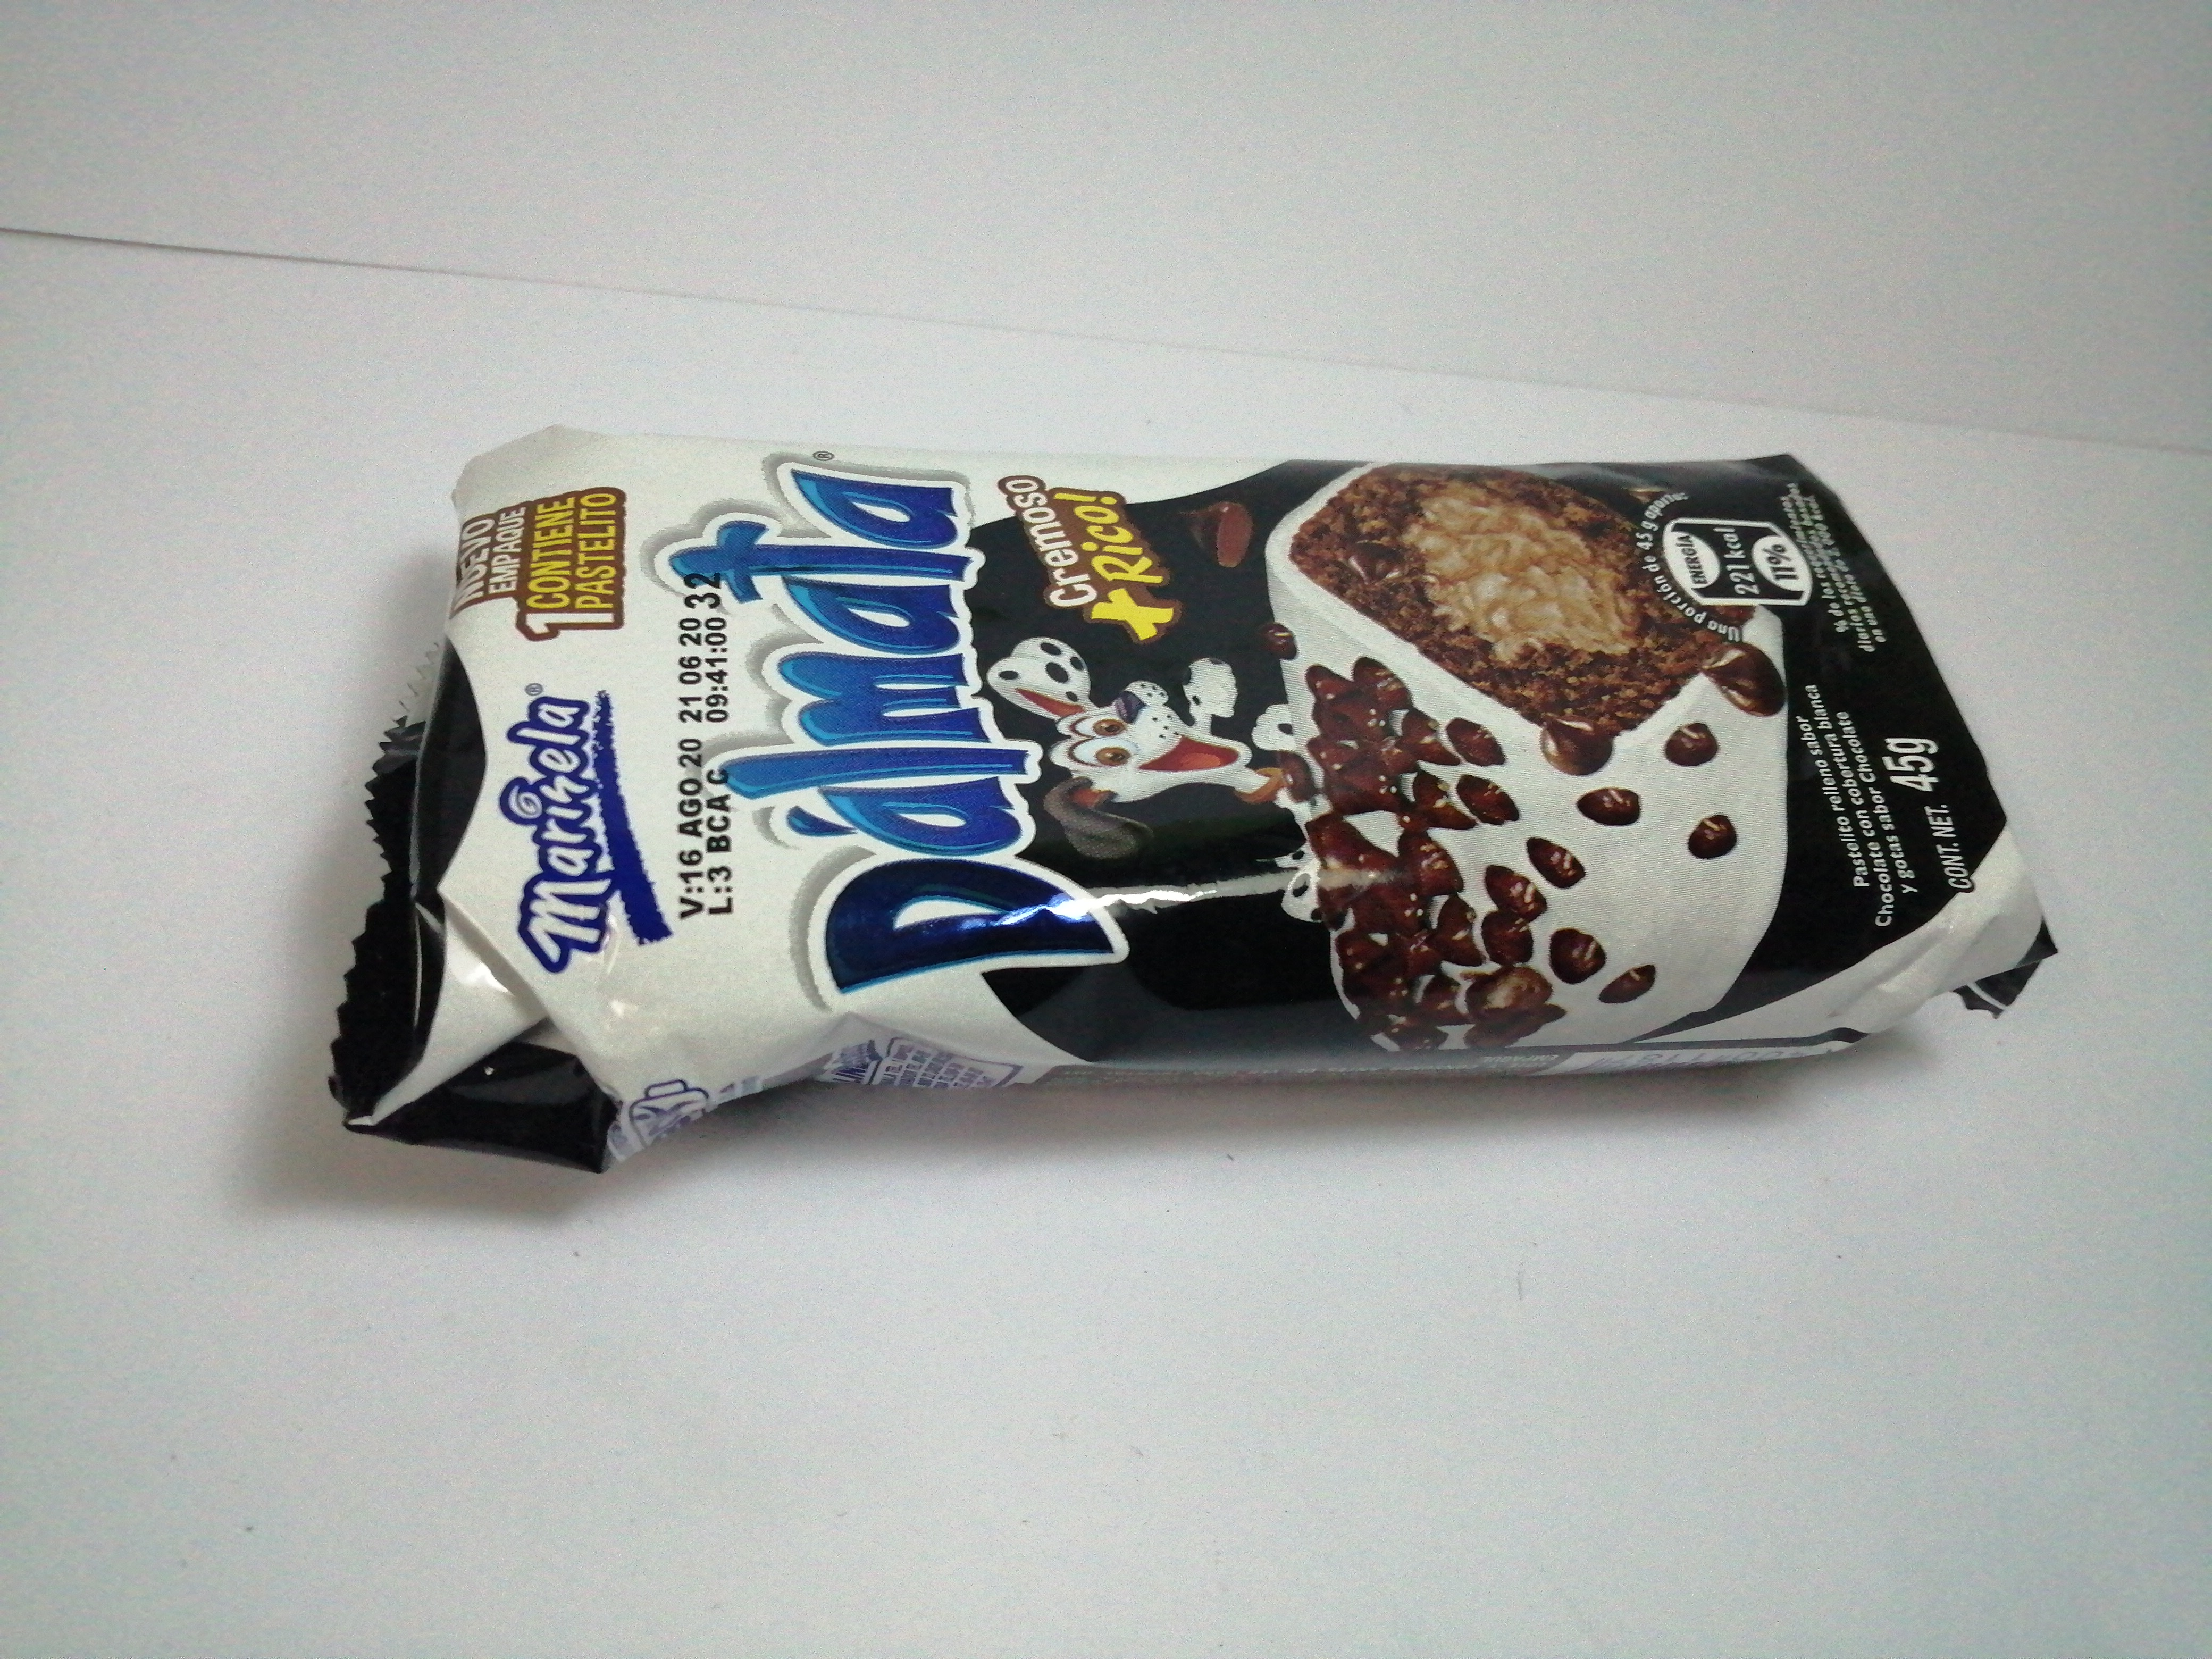dalmata: (333, 385, 2059, 1180)
